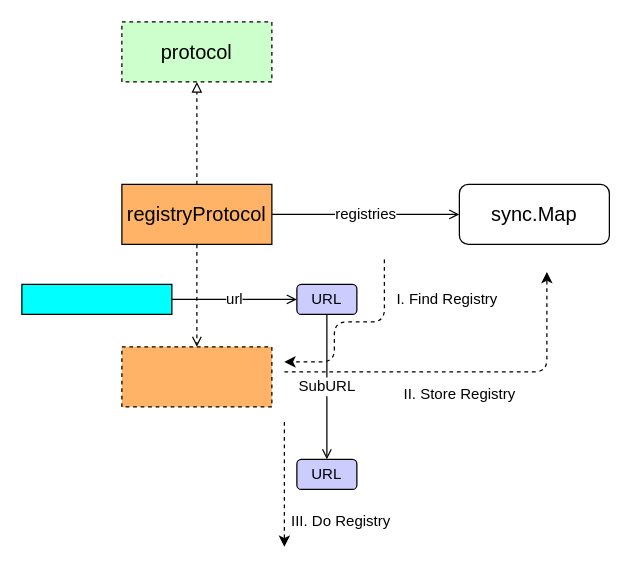
This 631x579 diagram has some shape labels left out. The shapes that lost their labels are listed below. From the top down, each one's centre as x and y in pixels, then its label:
point (96, 298): ProxyInvoker
point (196, 376): Registry
